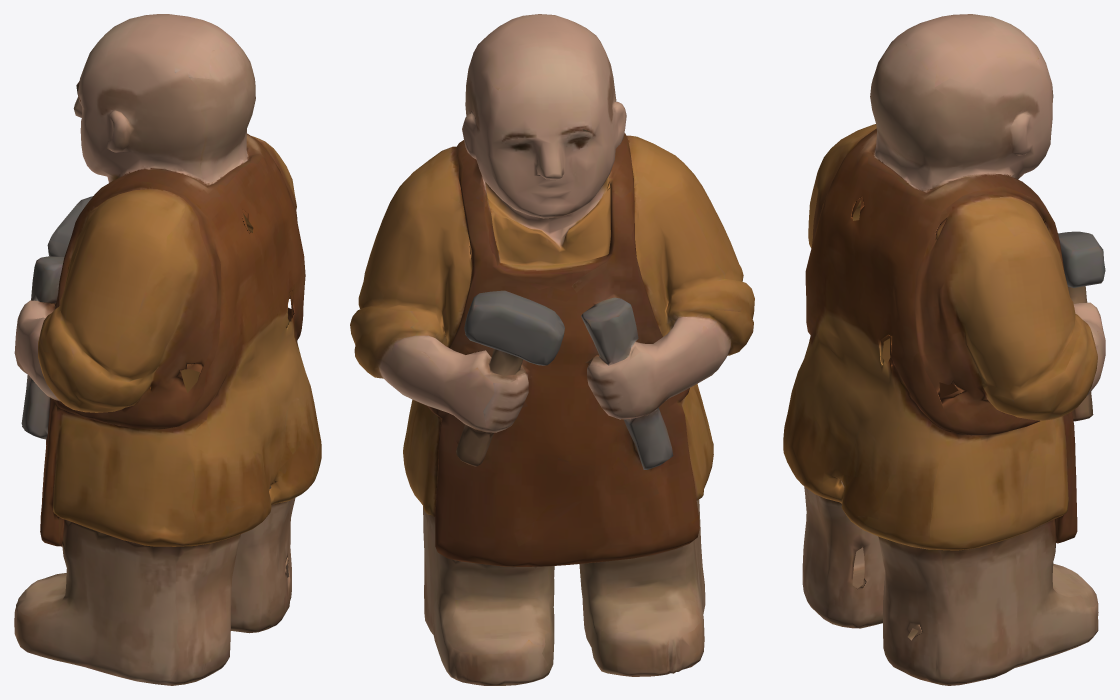
File: piece-mason.glb
3 views of the same model, side by side, from view 1: azimuth 30°, elevation 25°; view 2: azimuth 150°, elevation 25°; view 3: azimuth 270°, elevation 25° (orthographic). The views are drawn at different scales.
Parts seen in each view (by area): view 1: geometry_0; view 2: geometry_0; view 3: geometry_0.
Boxes of the visible parts, x1,y1,x2,y2 form: geometry_0: [14, 14, 321, 685]; geometry_0: [350, 14, 754, 685]; geometry_0: [783, 14, 1105, 685].
Size of the model in its own units: 0.4637 by 0.86 by 0.4138.
1 material, 1 textured.
